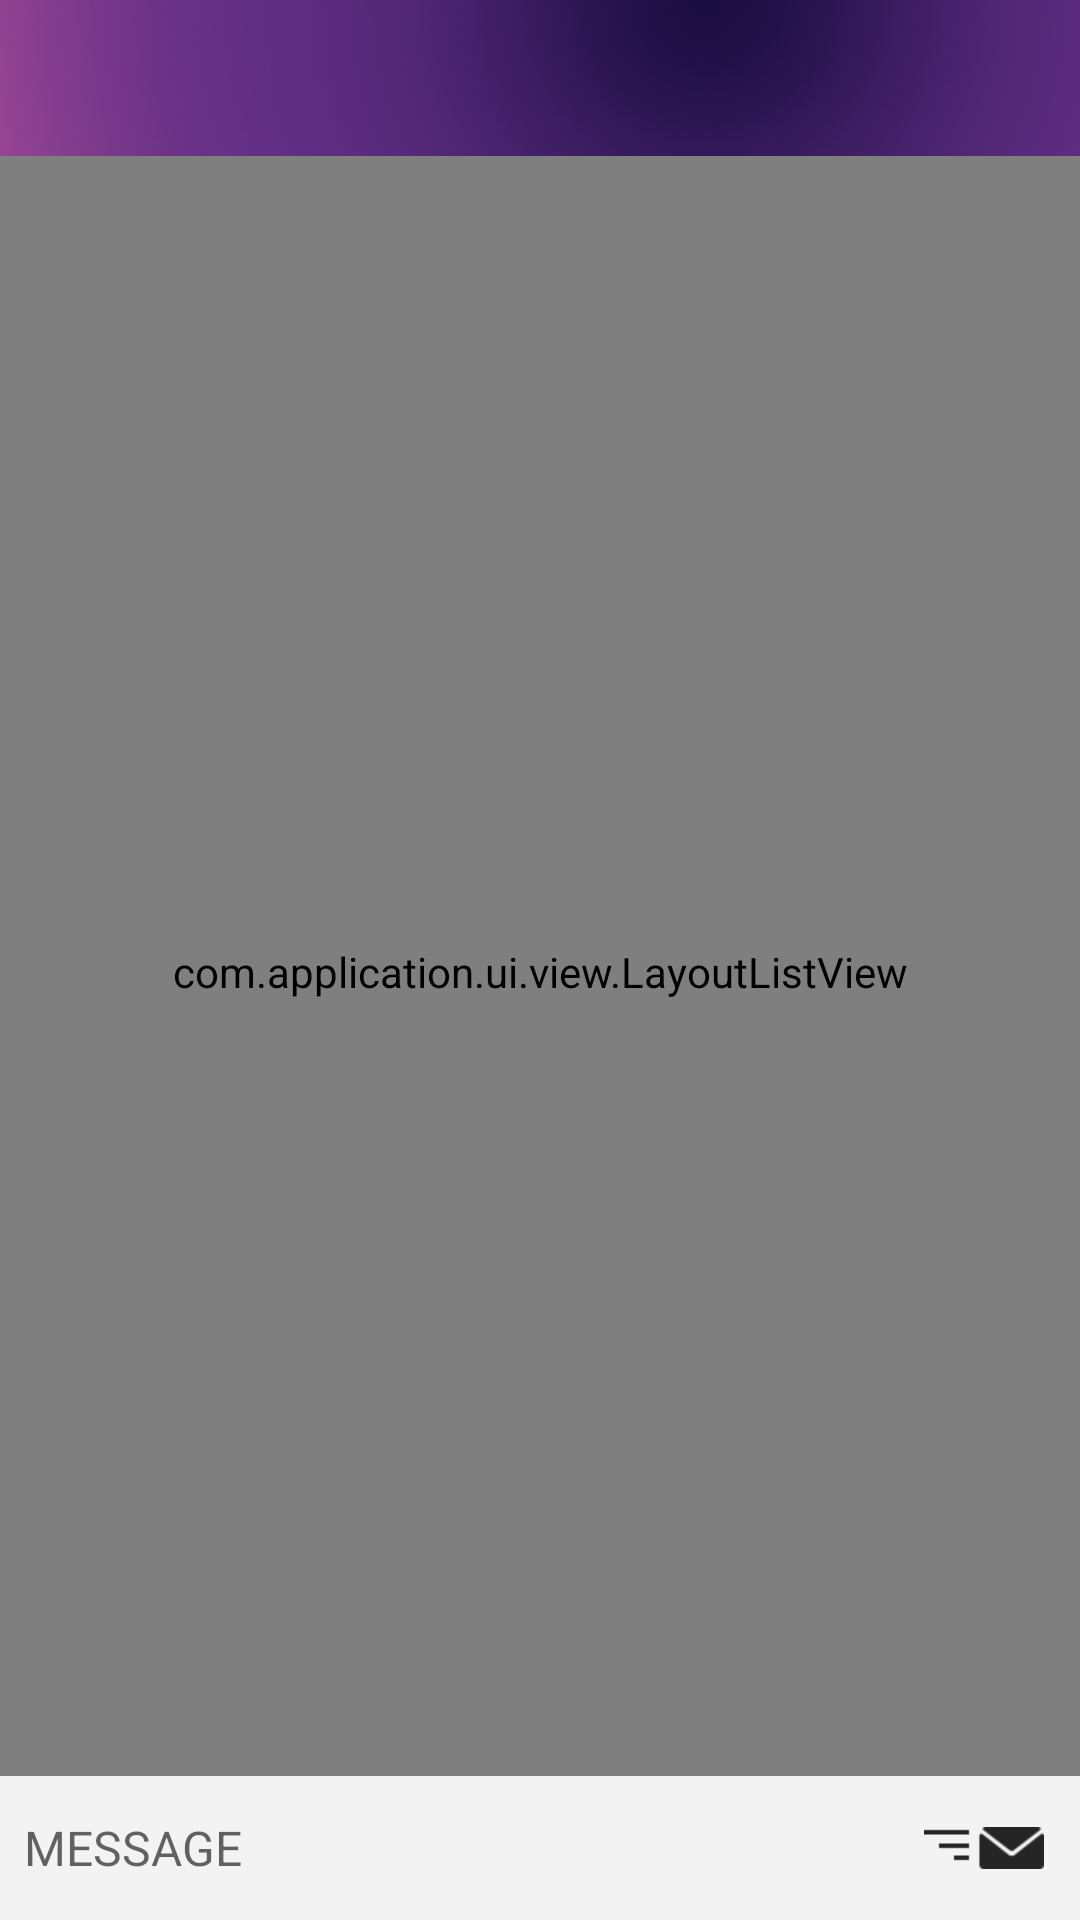

Named icons in this screenshot (1080px x 1920px) and their centers, [x,y]:
chat send: [984,1848]
